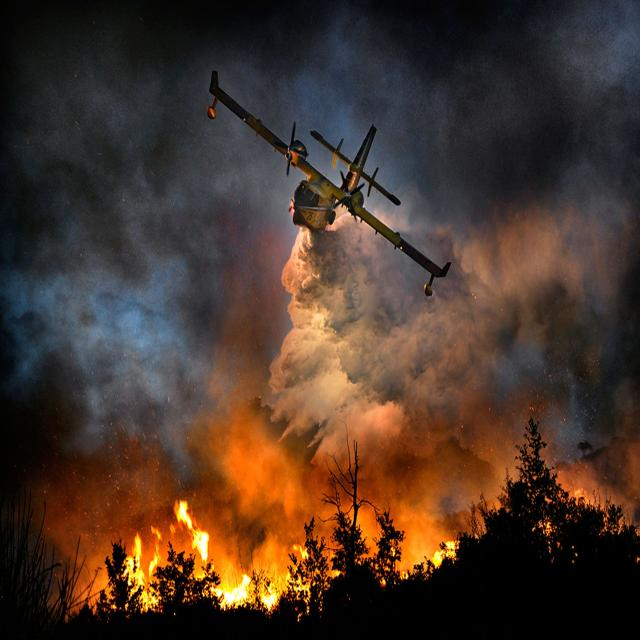Fire: (98, 507, 170, 632), (289, 534, 346, 625), (196, 562, 290, 614), (407, 519, 481, 585), (167, 488, 223, 548), (564, 474, 594, 511)
Smoke: (0, 0, 263, 400), (277, 3, 639, 208), (454, 219, 640, 398), (9, 397, 146, 529)
